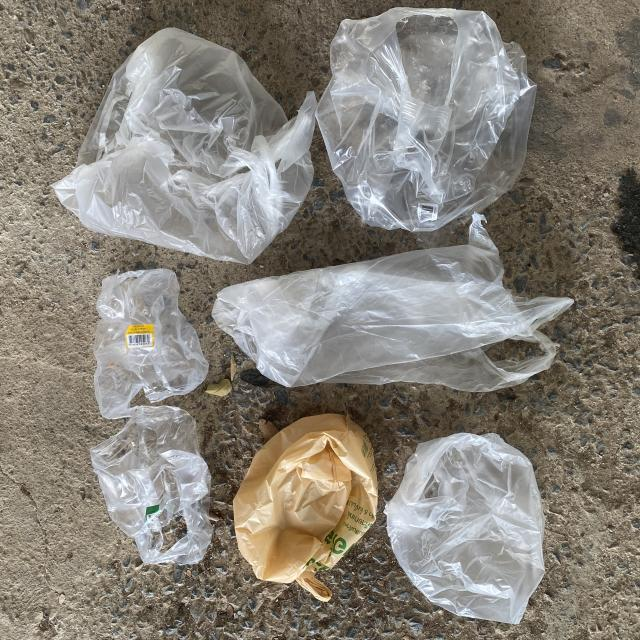Single-layer Plastic: (212, 214, 572, 392), (54, 28, 316, 264), (316, 8, 536, 232), (385, 434, 544, 624), (234, 414, 378, 601), (91, 406, 212, 564), (94, 269, 209, 419)
